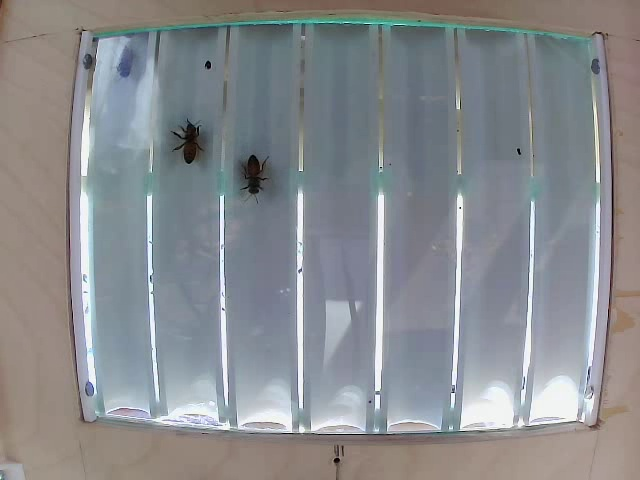bee: (233, 150, 277, 197), (166, 110, 207, 155)
